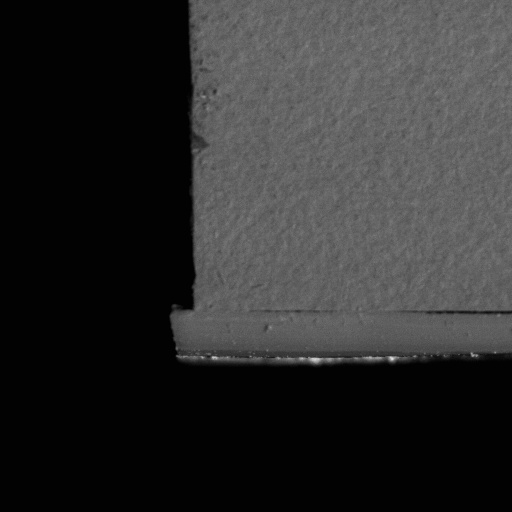jiaofeng: (414, 299, 511, 326)
